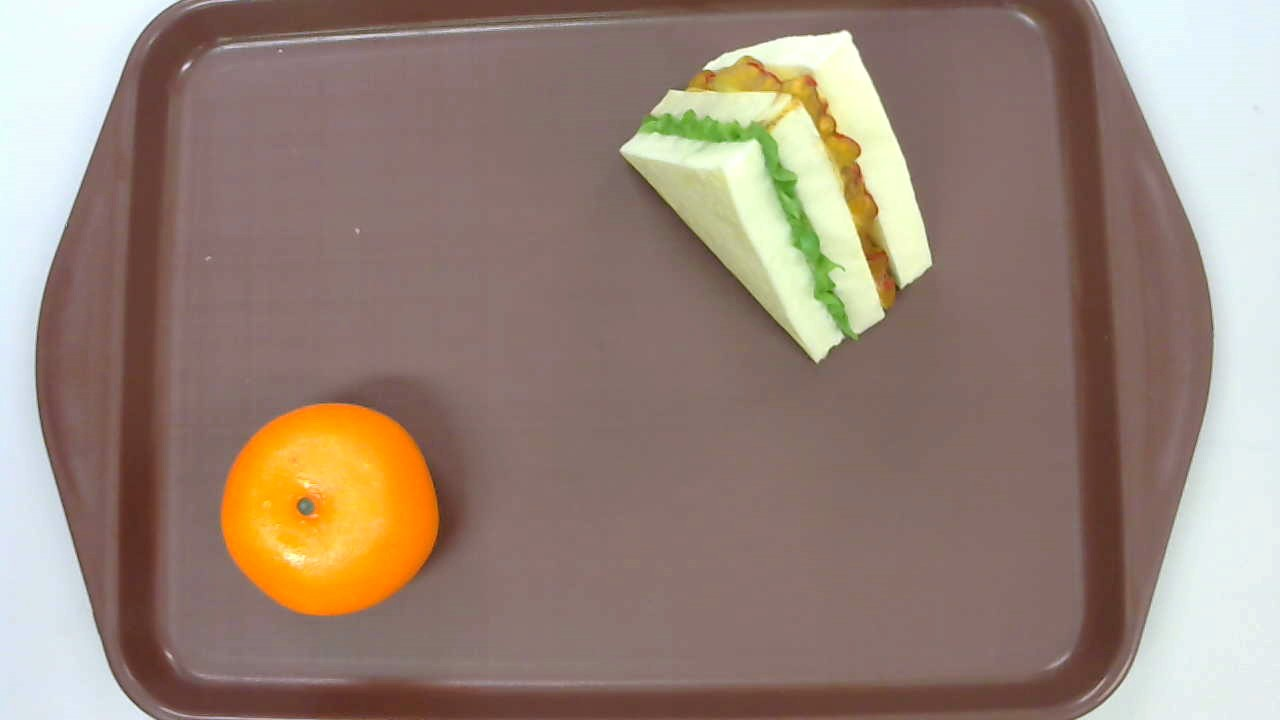orange: (219, 400, 439, 617)
sandwich: (618, 30, 933, 365)
